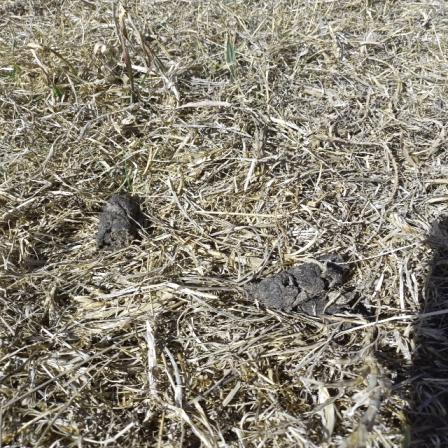dog-poop: (237, 258, 371, 334), (90, 183, 137, 255)
